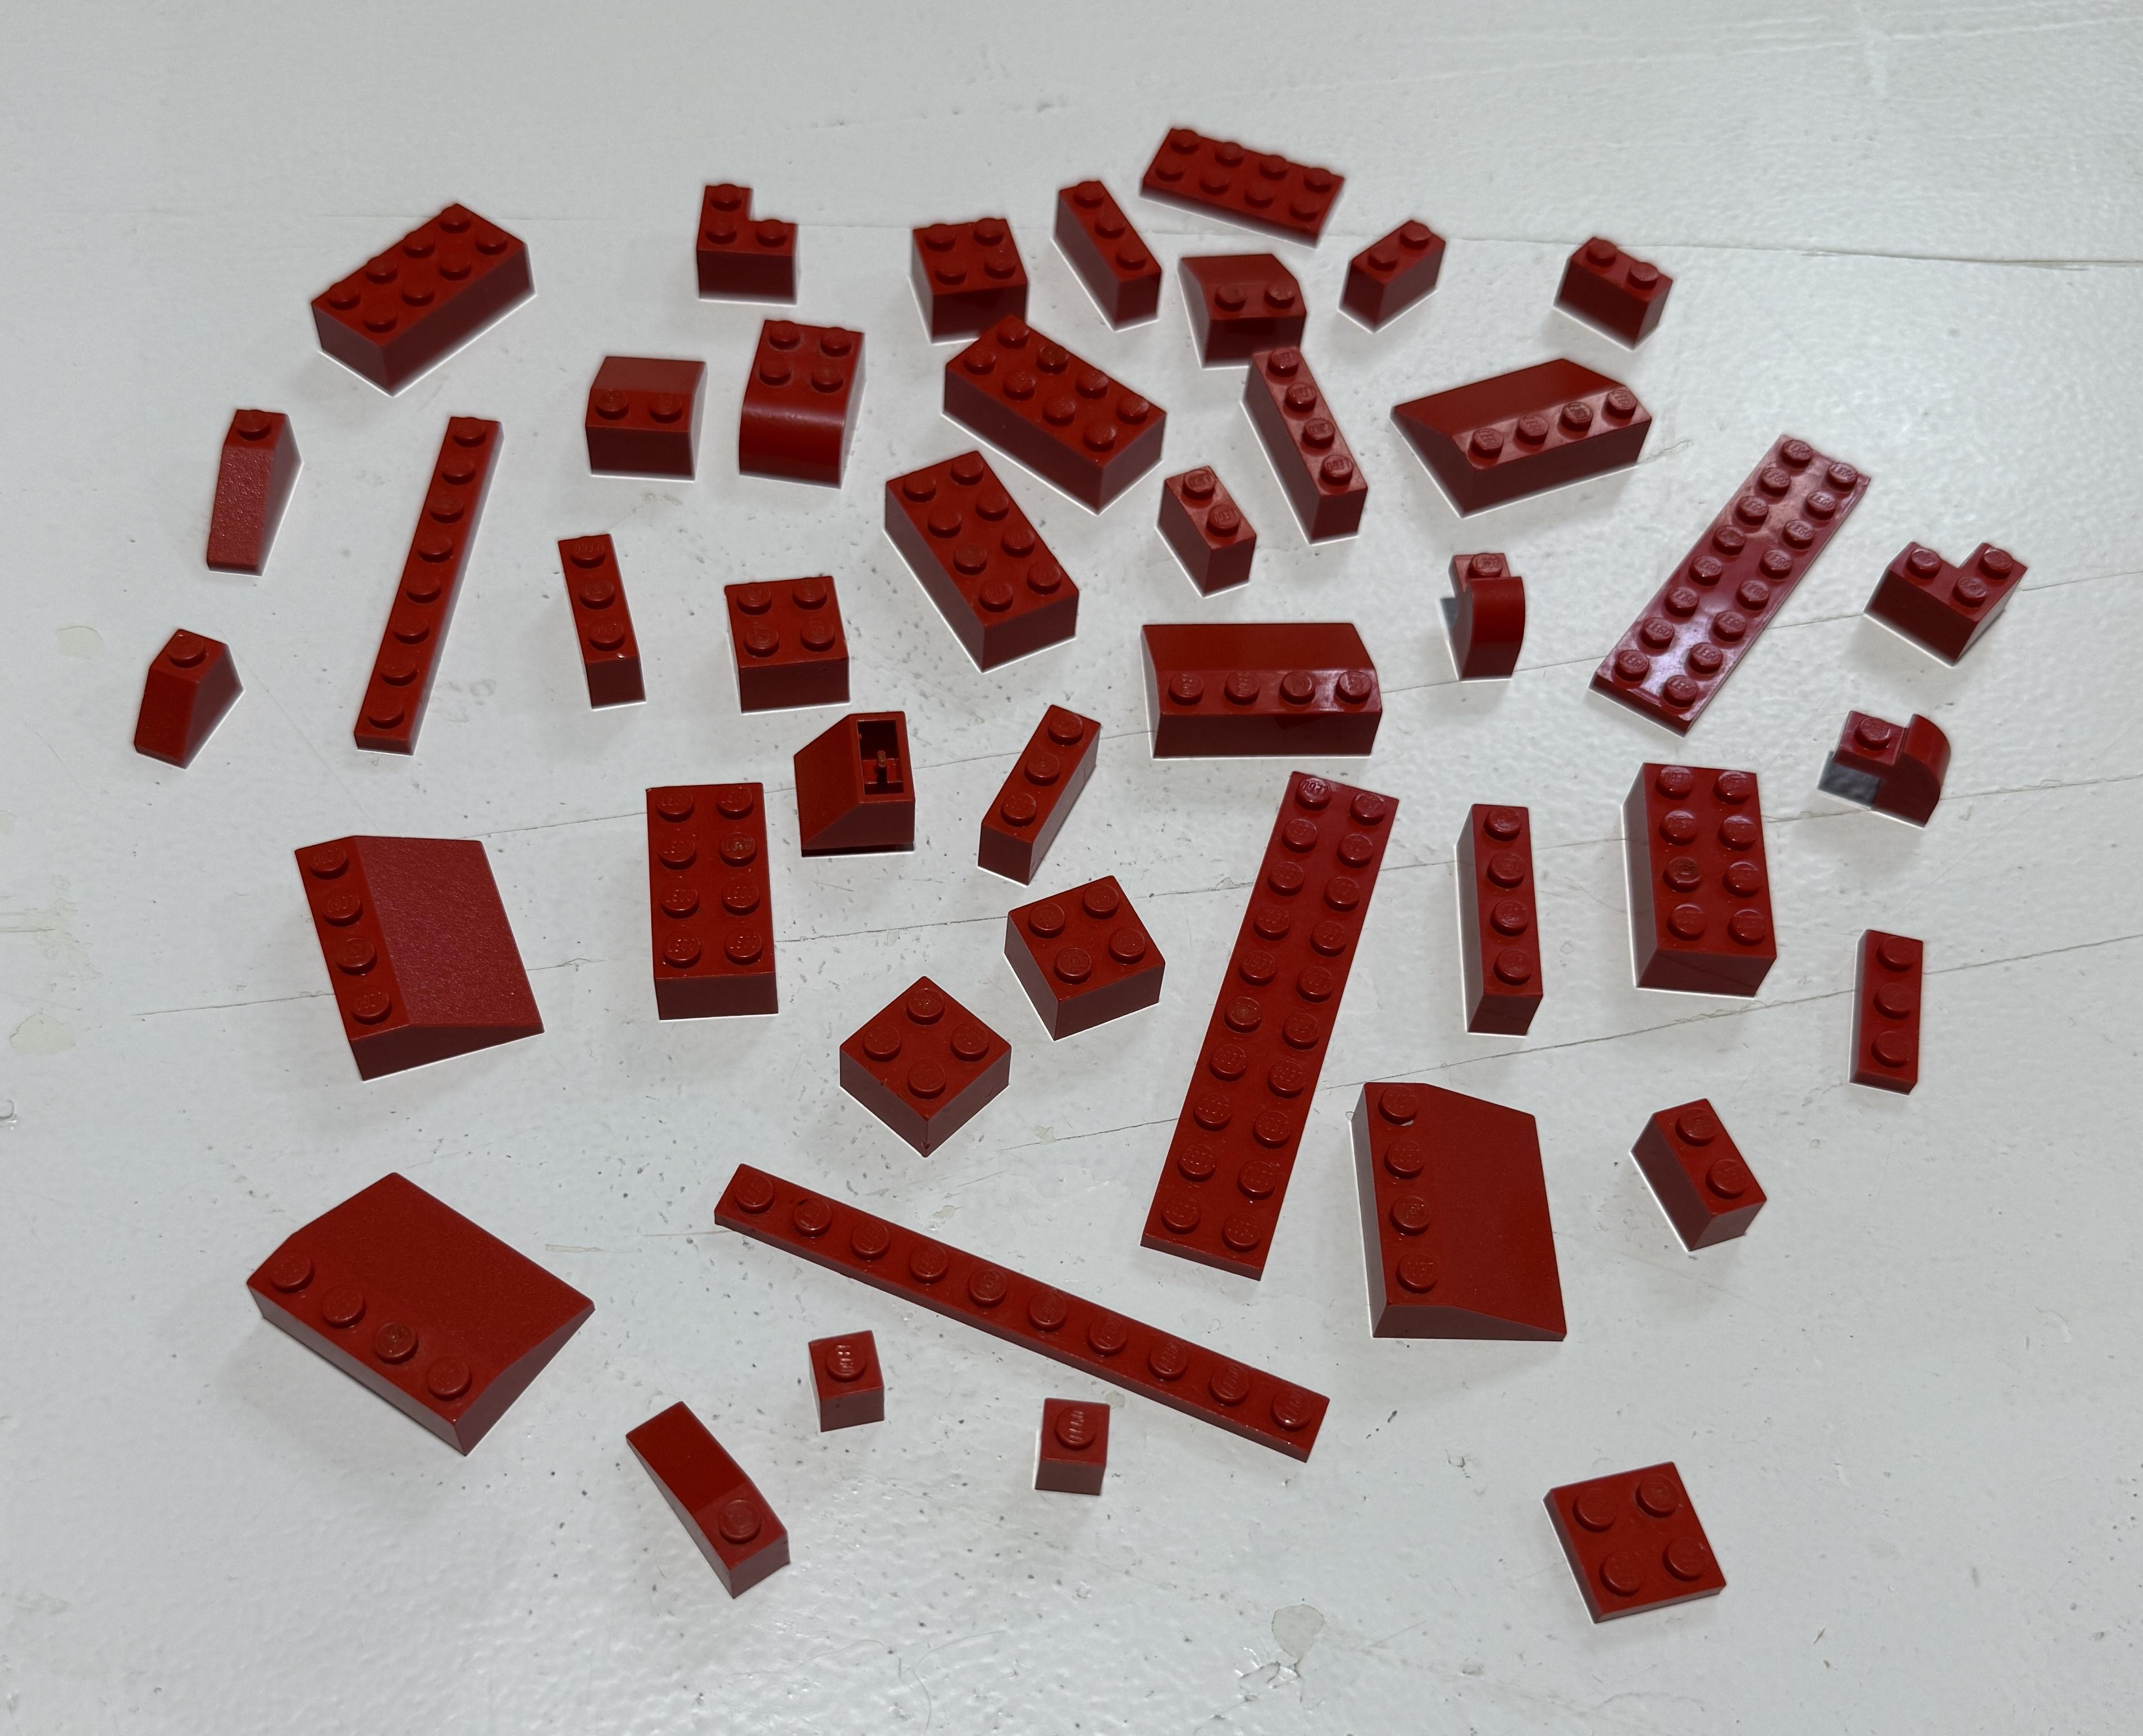Special_02: (537, 324, 754, 500), (1165, 234, 1318, 381)
brick_1x1: (1013, 1375, 1160, 1538), (790, 1313, 926, 1465)
brick_1x2: (1615, 1073, 1799, 1281), (1541, 195, 1713, 376), (1132, 441, 1279, 613), (1328, 195, 1466, 344)
brick_1x3: (965, 686, 1114, 905), (542, 508, 673, 730), (1036, 156, 1188, 344)
brick_1x4: (1424, 765, 1567, 1070), (1227, 319, 1389, 562)
brick_2x2: (811, 964, 1029, 1180), (974, 841, 1181, 1043), (891, 197, 1041, 349)
brick_2x4: (917, 292, 1180, 515), (294, 186, 549, 411), (873, 436, 1093, 687), (1608, 746, 1789, 1011), (638, 767, 786, 1036)
plate_2x2: (1497, 1430, 1755, 1653)
